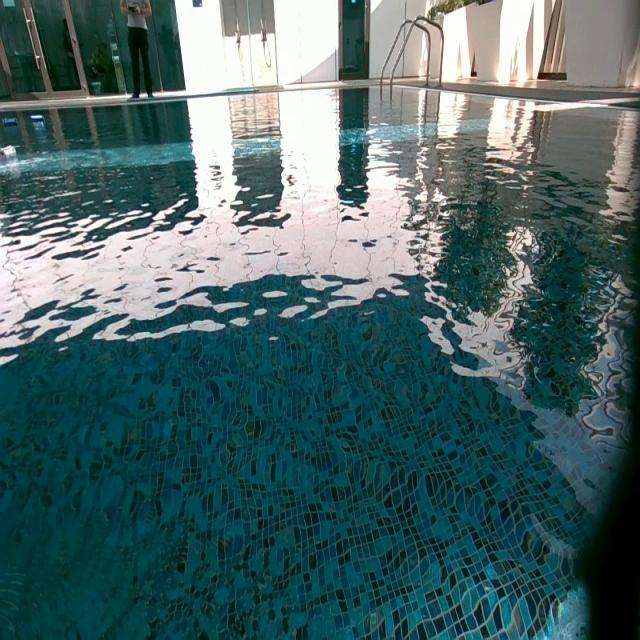Cans: (0, 145, 16, 159), (31, 113, 46, 127), (3, 116, 18, 128)
